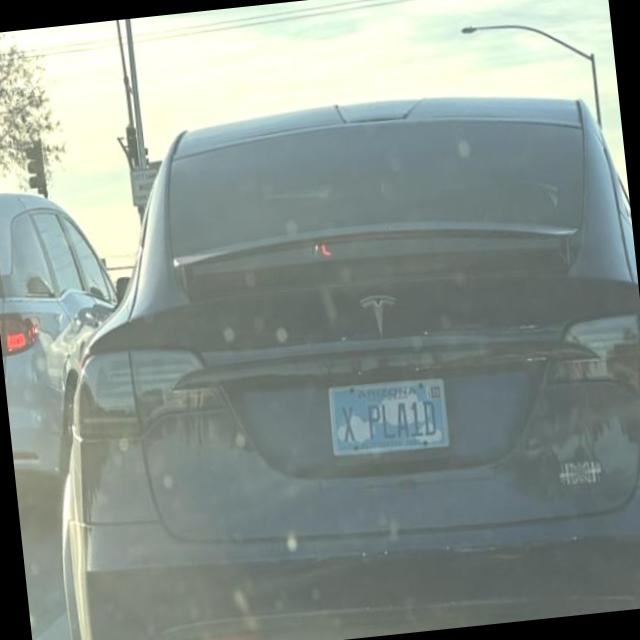LicensePlate: (326, 375, 450, 457)
